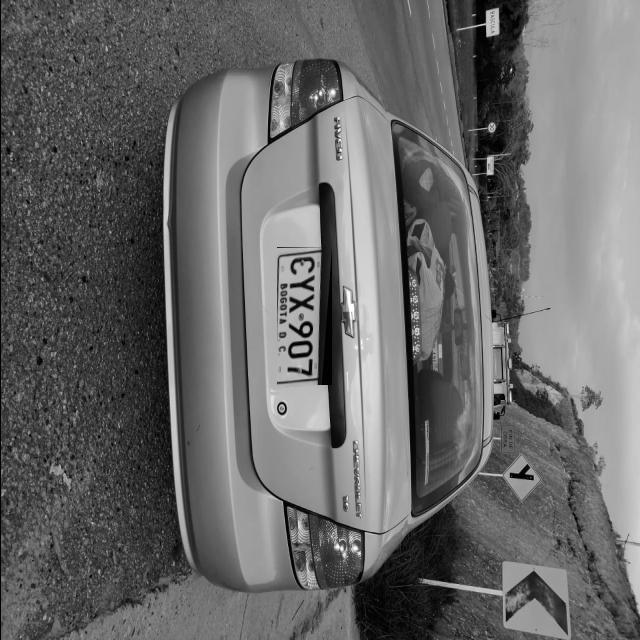plate: (276, 248, 331, 386)
